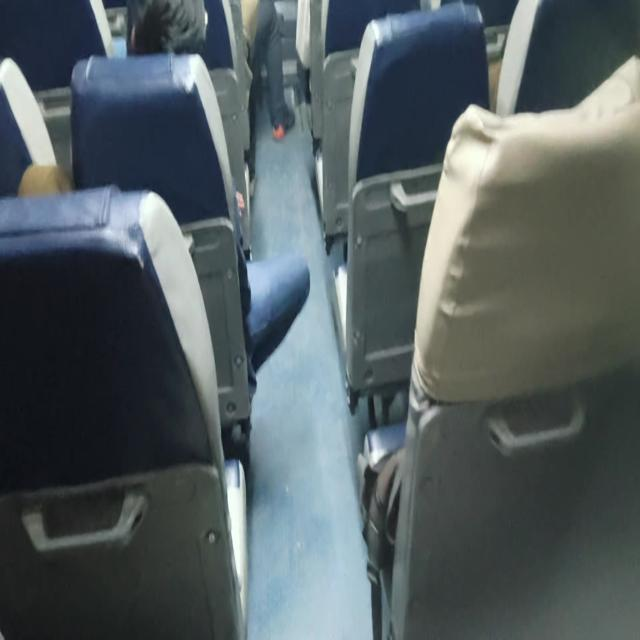person: (117, 0, 217, 59)
